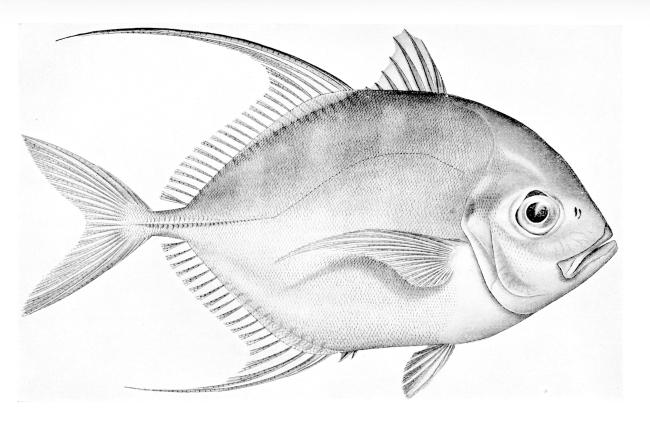fish: (19, 28, 617, 400)
